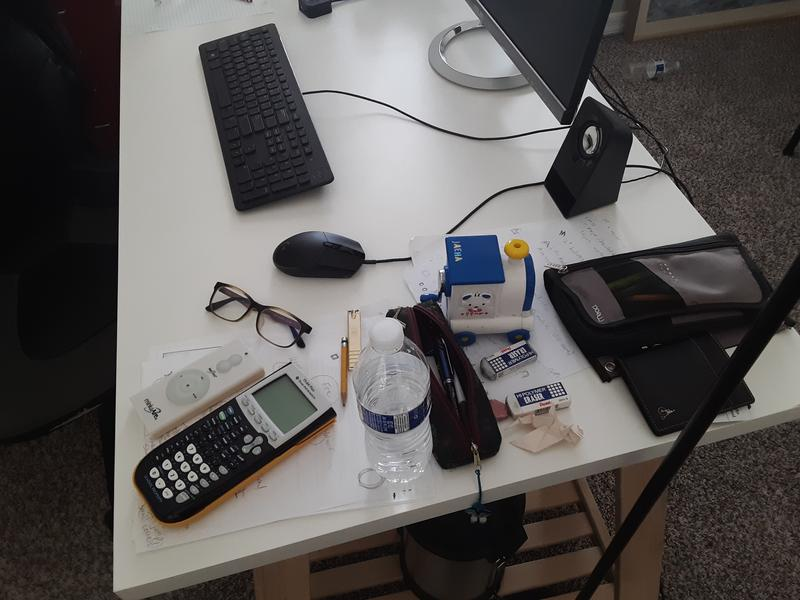glasses: (204, 282, 314, 350)
